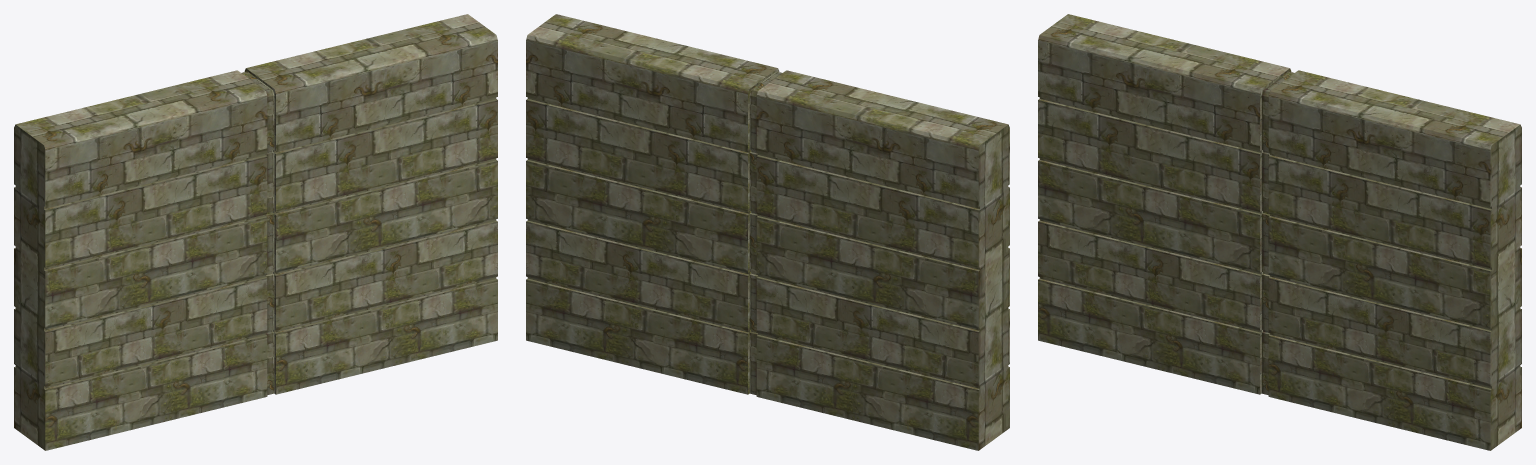
File: wall-03.fbx
3 renders of one model, left to right at view 1: azimuth 30°, elevation 25°; view 2: azimuth 150°, elevation 25°; view 3: azimuth 330°, elevation 25°, orthographic.
Visible parts, largest first — view 1: Cube.166; view 2: Cube.166; view 3: Cube.166.
Part boxes in pixels (left/top/right/bottom): Cube.166: left=14, top=14, right=497, bottom=450; Cube.166: left=526, top=14, right=1009, bottom=450; Cube.166: left=1038, top=14, right=1521, bottom=450.
Size of the model in its own units: 3.73 by 2.4 by 0.448.
